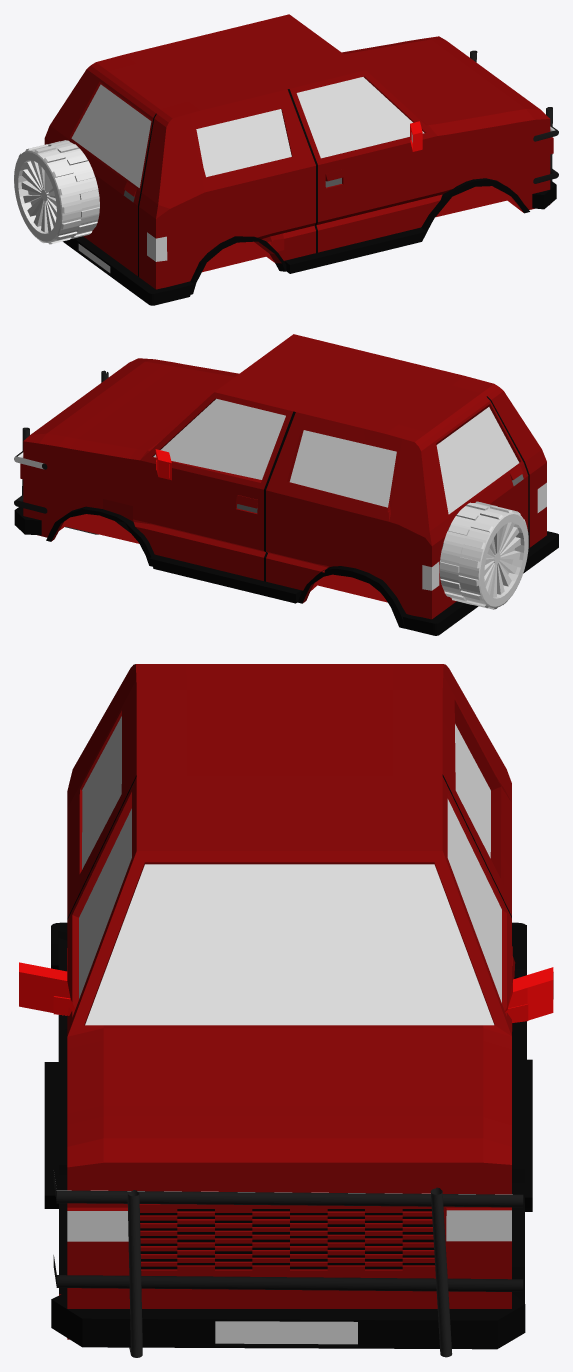
File: mojdehmahmoudabadi.fbx
3 renders of one model, top to bottom at view 1: azimuth 30°, elevation 25°; view 2: azimuth 150°, elevation 25°; view 3: azimuth 270°, elevation 25°, orthographic. The views are drawn at different scales.
Parts seen in each view (by area): view 1: Cylinder; view 2: Cylinder; view 3: Cylinder.
Boxes of the visible parts, x1,y1,x2,y2 form: Cylinder: [14, 14, 558, 305]; Cylinder: [14, 334, 558, 635]; Cylinder: [19, 664, 553, 1357].
Bounding box in the file's own units: 347 × 121 × 178.
